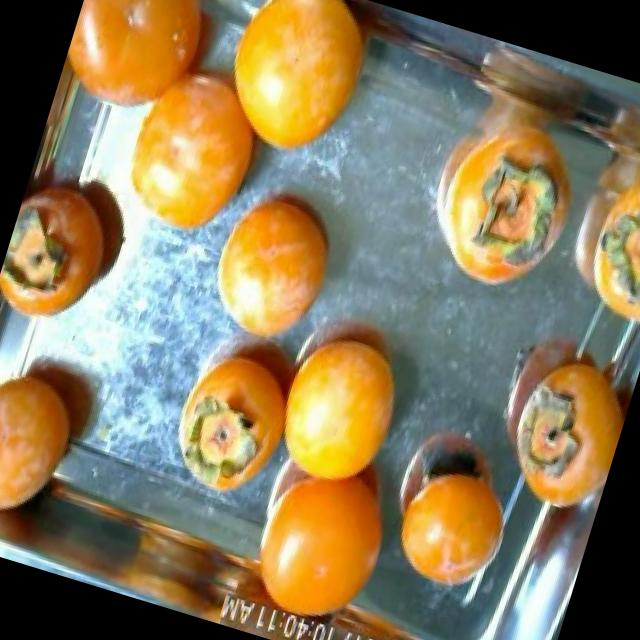Fruit: (180, 154, 368, 375), (238, 421, 423, 640), (194, 0, 402, 191), (98, 62, 282, 262), (0, 144, 158, 350), (0, 313, 120, 547), (374, 434, 526, 614), (421, 138, 576, 312)
